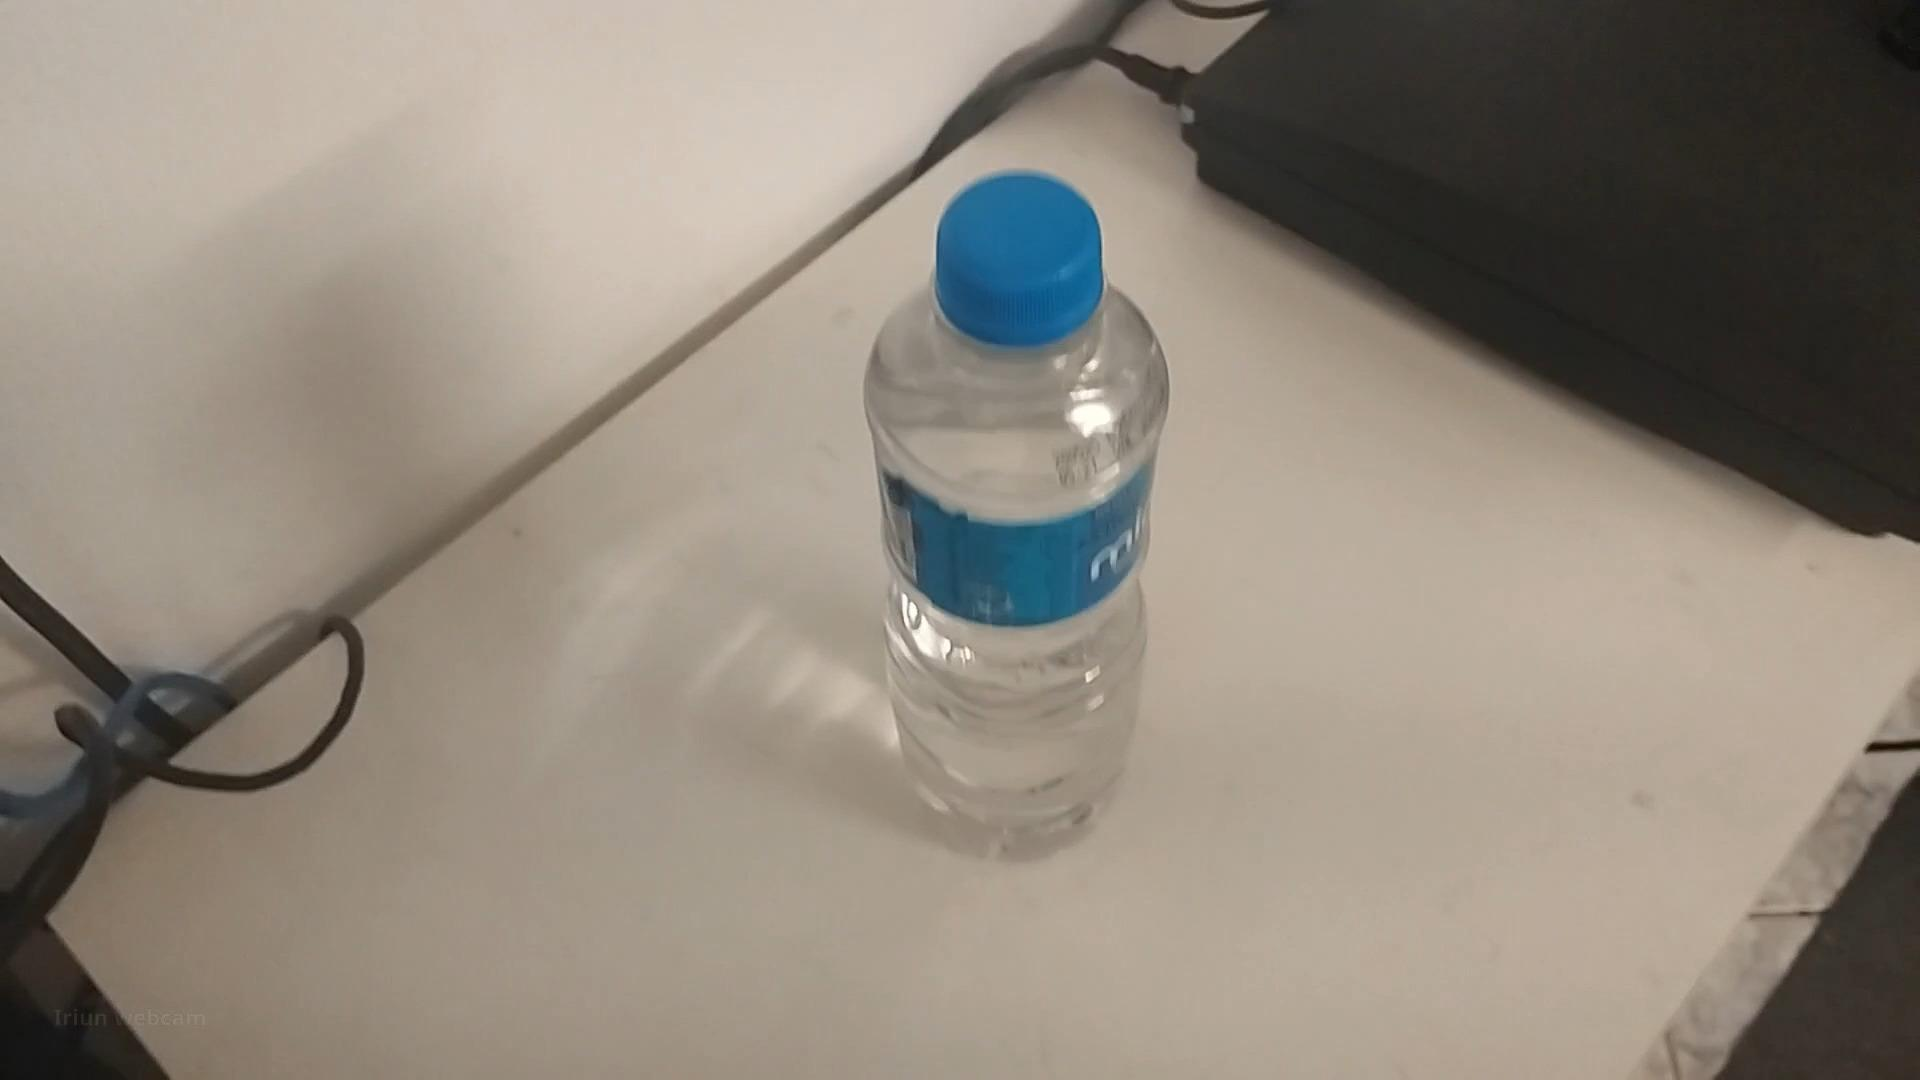agua: (866, 165, 1163, 849)
